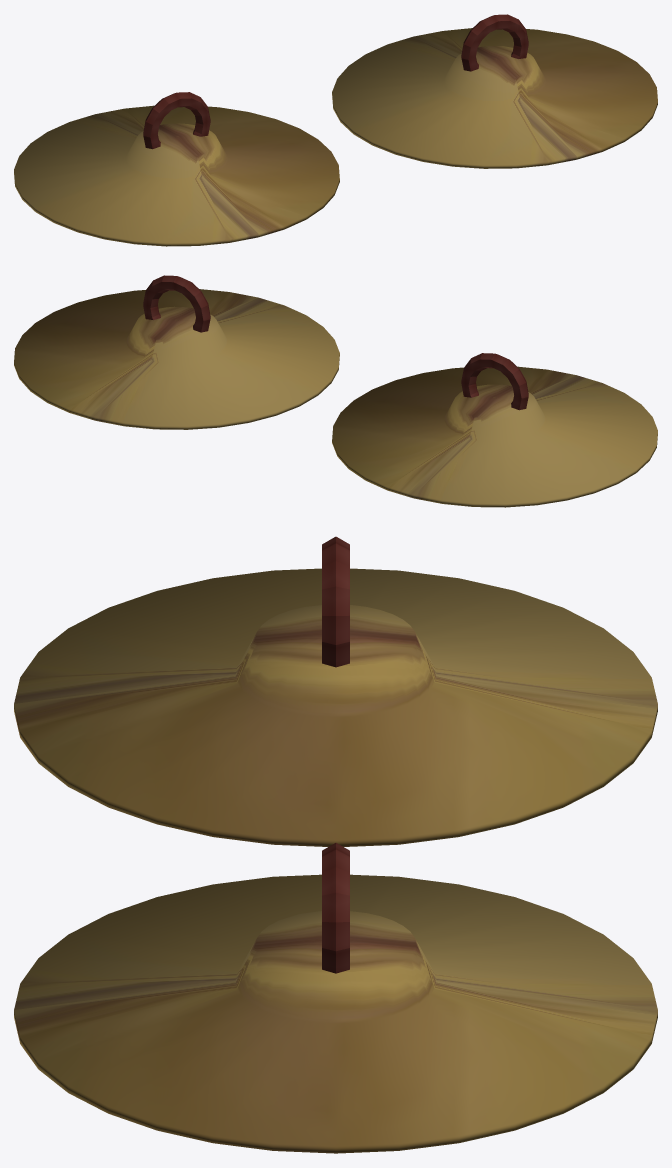
Rendered from MU11_ToyCymbals.glb.
3 views of the same model, one above another, from view 1: azimuth 30°, elevation 25°; view 2: azimuth 150°, elevation 25°; view 3: azimuth 270°, elevation 25° (orthographic). The views are drawn at different scales.
Visible parts, largest first — view 1: MU11_ToyCymbals; view 2: MU11_ToyCymbals; view 3: MU11_ToyCymbals.
Part boxes in pixels (left/top/right/bottom): MU11_ToyCymbals: left=14, top=14, right=657, bottom=246; MU11_ToyCymbals: left=14, top=275, right=657, bottom=507; MU11_ToyCymbals: left=14, top=536, right=657, bottom=1153.
Bounding box in the file's own units: 0.3 × 0.0406 × 0.1412.
2 materials, 2 textured.
